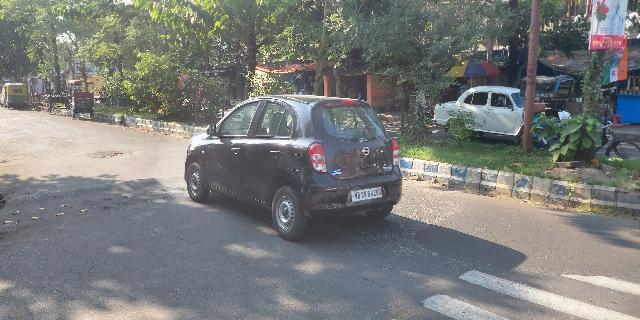Autorickshaw: (2, 81, 32, 110)
Car: (180, 88, 406, 244)
Rickshaw: (66, 77, 96, 122)
